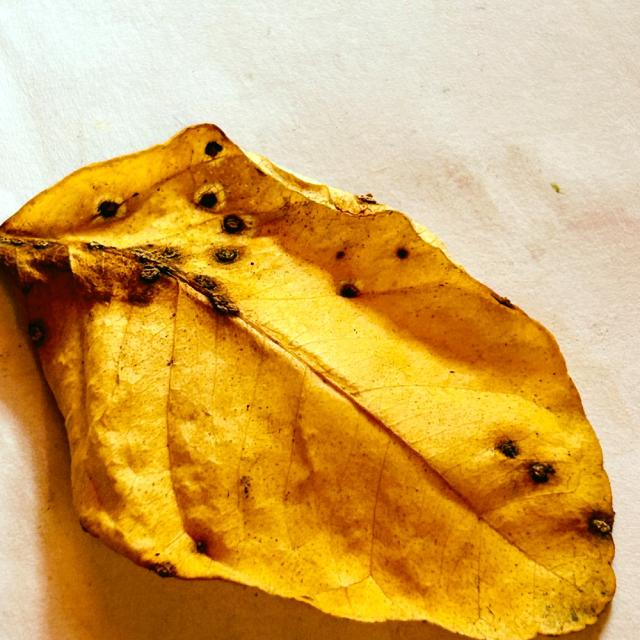DryLeaf_Lemon: (0, 124, 614, 637)
